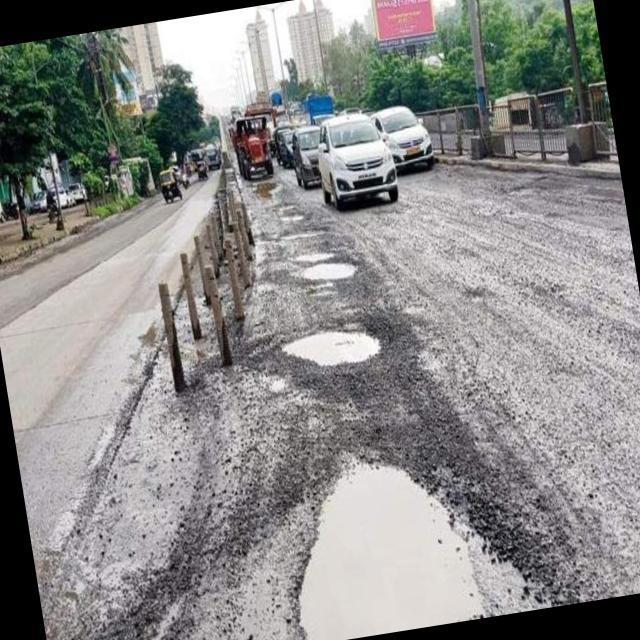Pothole: (299, 463, 482, 640), (284, 331, 380, 367), (299, 254, 355, 280)
